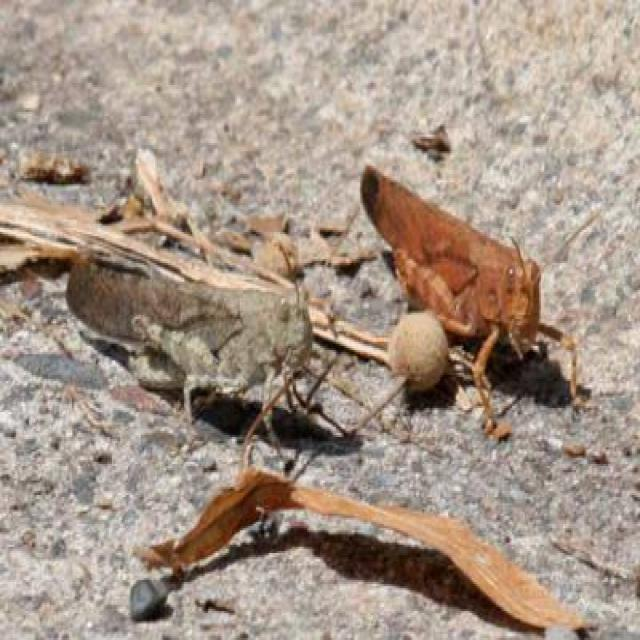antennae: (278, 248, 305, 302)
body: (75, 260, 314, 380)
insect: (68, 249, 399, 474)
legs: (303, 364, 385, 438), (264, 363, 283, 468), (180, 372, 209, 430)
mouthpart: (284, 344, 310, 374)
wings: (73, 266, 240, 332)
